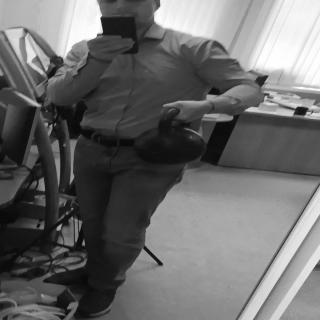kettlebell: (133, 107, 210, 165)
